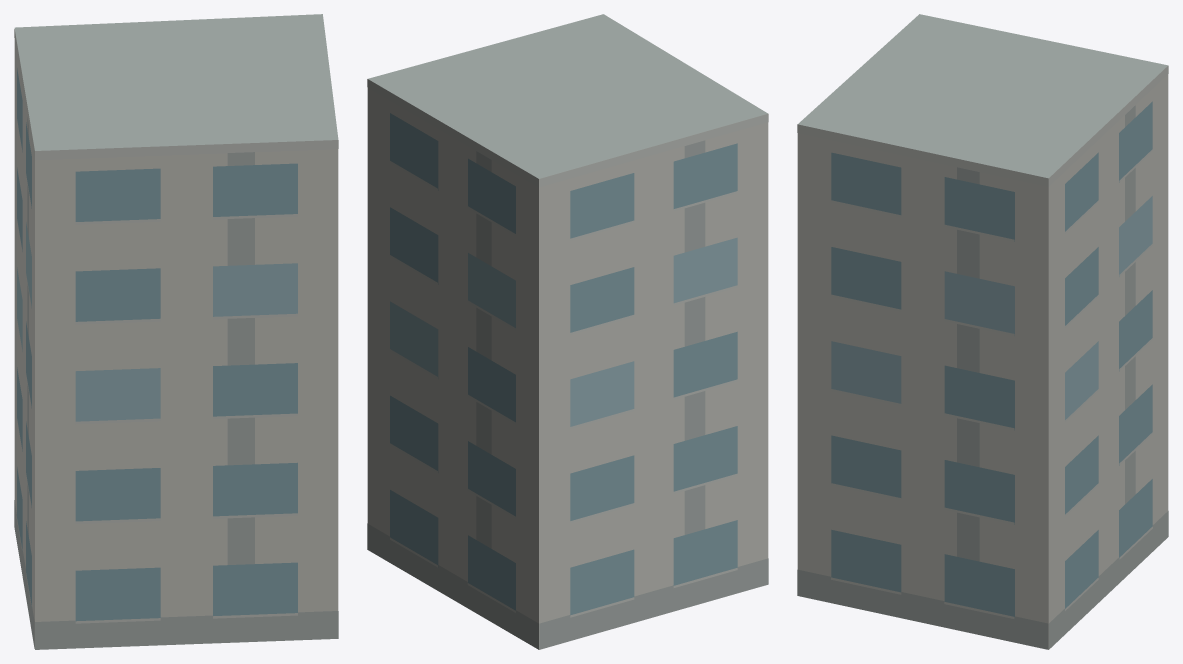
Rendered from survey-upis-32726195.glb.
3 views of the same model, side by side, from view 1: azimuth 30°, elevation 25°; view 2: azimuth 150°, elevation 25°; view 3: azimuth 270°, elevation 25° (orthographic). The views are drawn at different scales.
Parts seen in each view (by area): view 1: survey-upis-32726195.tmp; view 2: survey-upis-32726195.tmp; view 3: survey-upis-32726195.tmp.
Boxes of the visible parts, x1=… form: survey-upis-32726195.tmp: x1=14, y1=14, x2=338, y2=649; survey-upis-32726195.tmp: x1=367, y1=14, x2=768, y2=649; survey-upis-32726195.tmp: x1=797, y1=14, x2=1168, y2=649.
Size of the model in its own units: 9.95 by 13.3 by 9.49.
